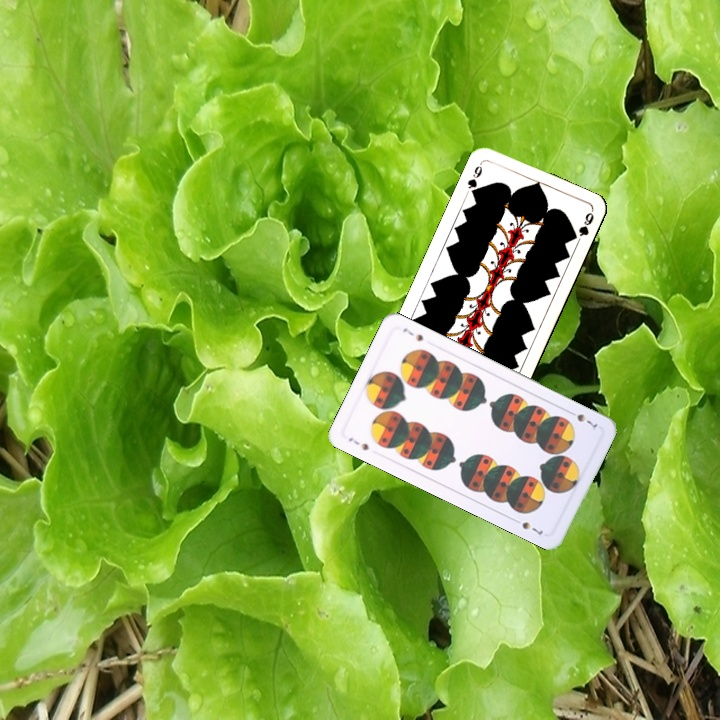G9: (463, 158, 485, 199)
S7: (564, 406, 602, 433), (344, 433, 371, 453)
